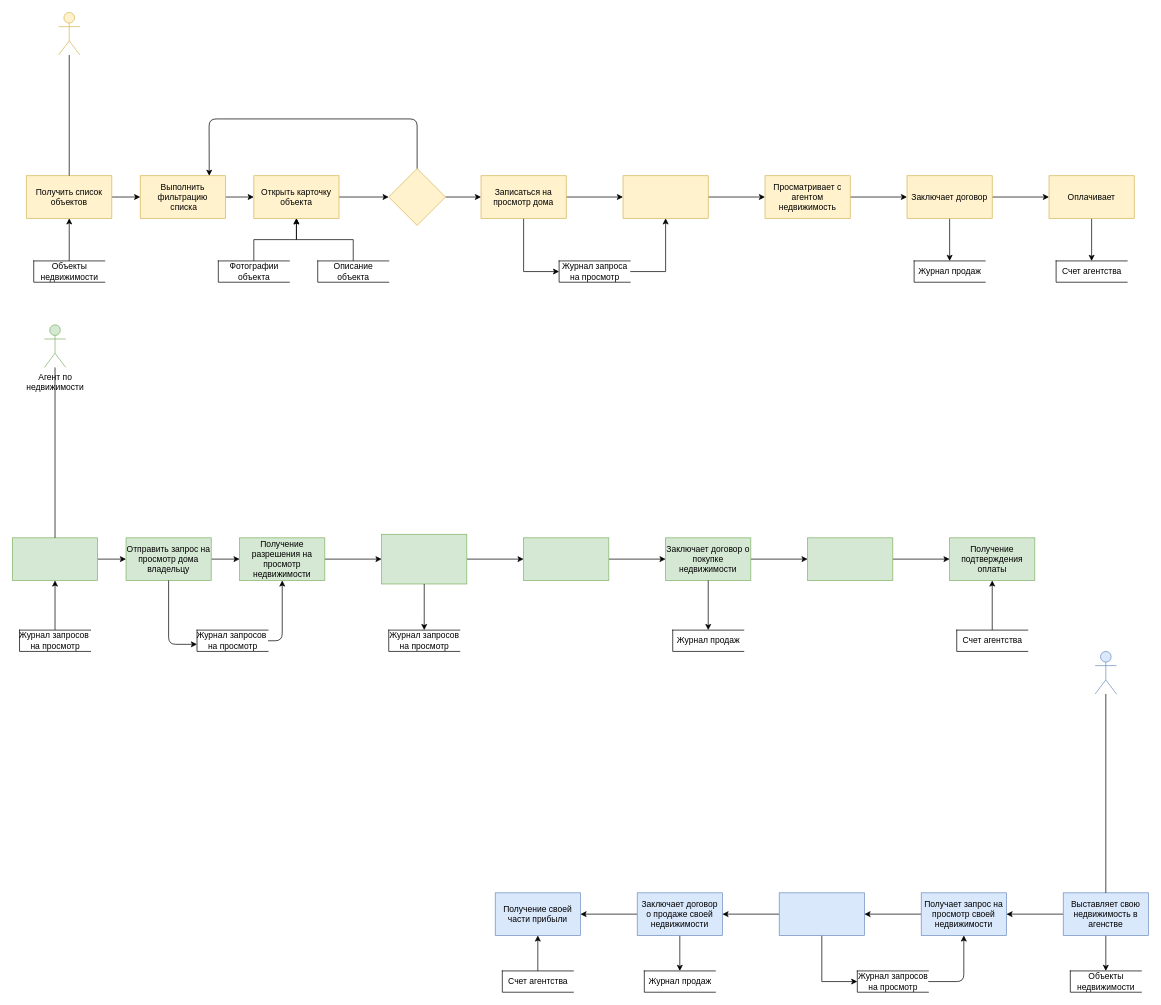
Some shapes in this 1161 by 1005 pixel diagram are drawn without their labels. Here are the shapes that lost their labels. From the top down, the box of each, then its label:
(58, 12, 80, 55): Покупатель
(622, 175, 708, 218): Получает разрешение на просмотр дома
(12, 537, 98, 580): Запросить разрешение на просмотр недвижимости
(381, 534, 467, 584): Предоставляет возможность клиенту просмотреть недвижимость
(523, 537, 609, 580): Просматривает с покупателем недвижимость
(807, 537, 893, 580): Оформляет оплату
(1094, 651, 1116, 694): Продавец
(779, 892, 864, 935): Дает разрешение на просмотр недвижимости
